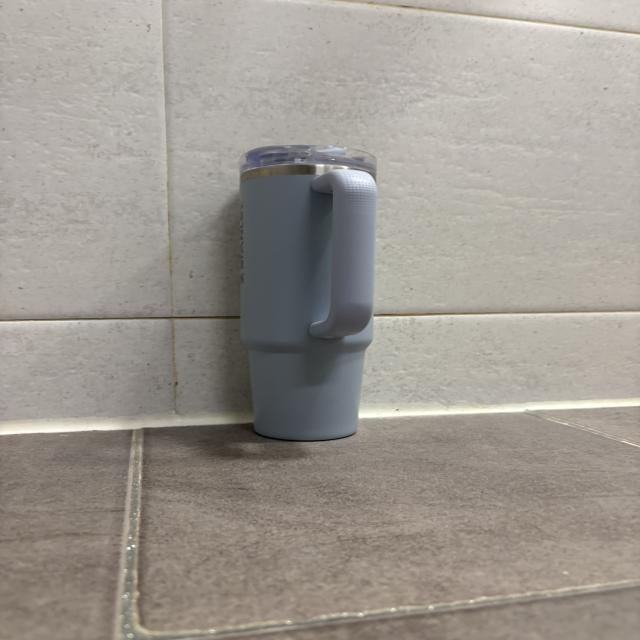waterbottle: (239, 144, 371, 440)
